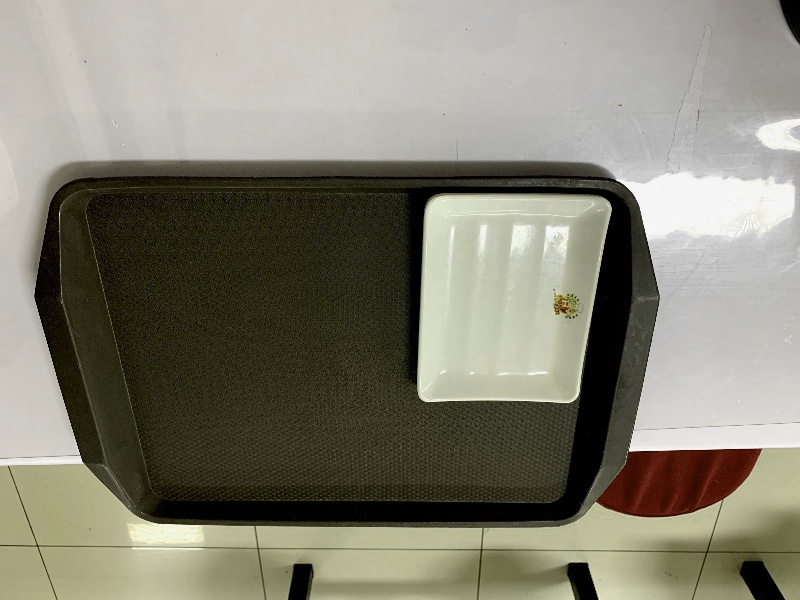dish4: (411, 188, 614, 406)
